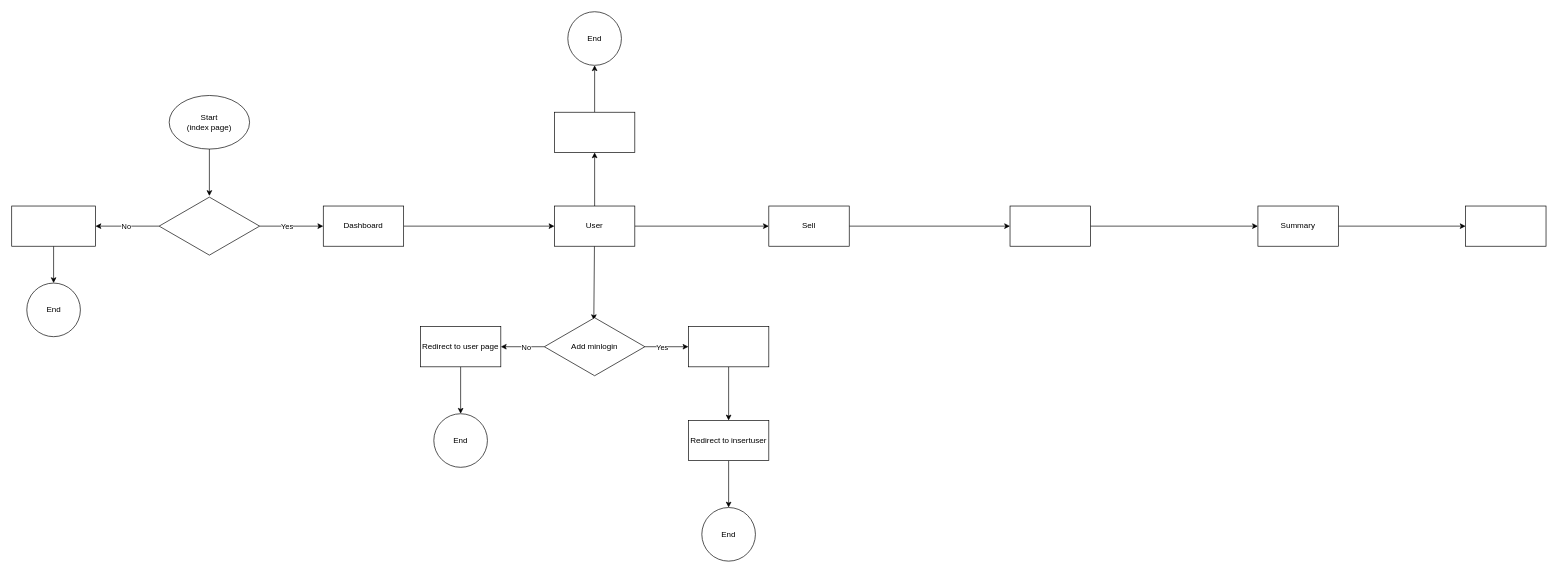
This 1558x573 diagram has some shape labels left out. Each missing label, with the box of its shape:
Check: (554, 112, 635, 152)
Expenses: (1465, 205, 1546, 246)
Insertuser: (688, 326, 769, 367)
Not Login?: (158, 195, 260, 256)
Product: (1009, 205, 1090, 246)
Redirect to index page: (11, 205, 95, 246)
